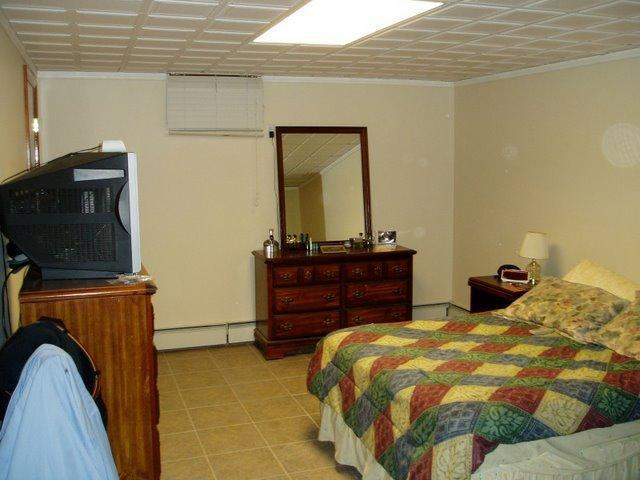Cama: (321, 278, 615, 469)
